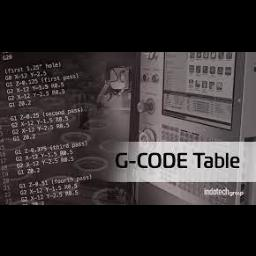c: (136, 149, 150, 171)
d: (163, 150, 177, 172)
e: (177, 150, 189, 172)
g: (111, 150, 133, 170)
o: (148, 152, 162, 170)
t: (193, 148, 205, 170)
